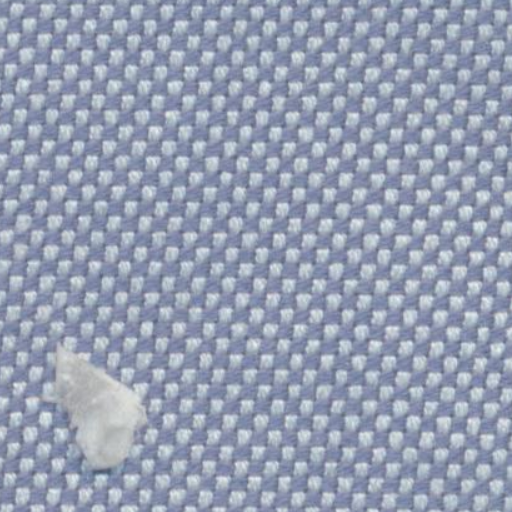MianQiu: (29, 330, 166, 479)
